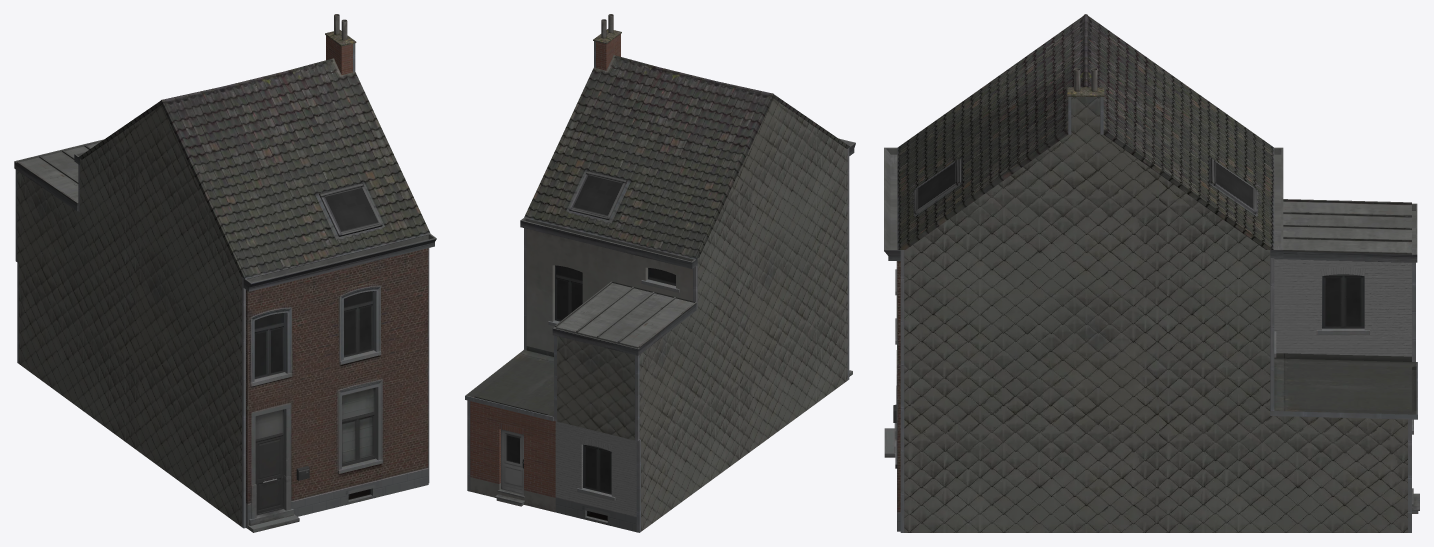
The model's file is sf-terrace-be.glb.
The picture shows the model from 3 angles, left to right: view 1: azimuth 30°, elevation 25°; view 2: azimuth 150°, elevation 25°; view 3: azimuth 270°, elevation 25°; orthographic projection. The views are drawn at different scales.
Parts seen in each view (by area): view 1: House; view 2: House; view 3: House.
Part boxes in pixels (<box>): House: <box>14,14,436,532</box>; House: <box>465,14,855,532</box>; House: <box>884,14,1419,532</box>.
Bounding box in the file's own units: 5.3 × 11 × 11.62.
Materials: 1 (1 with a texture image).
